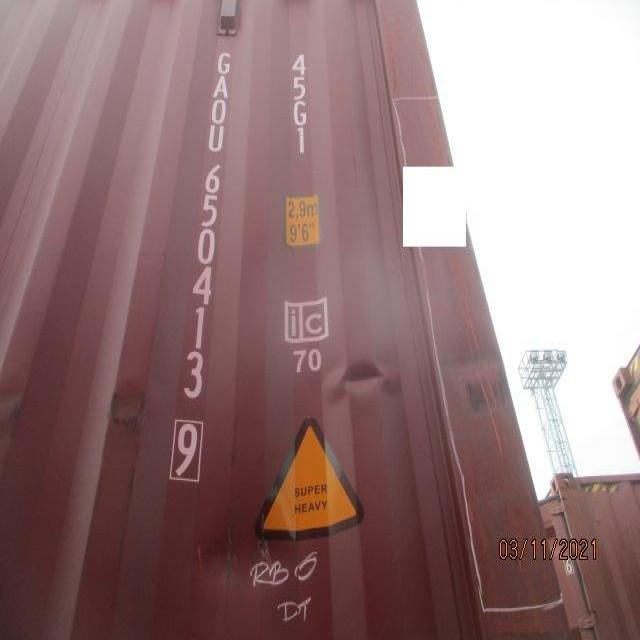dent: (183, 349, 411, 600)
